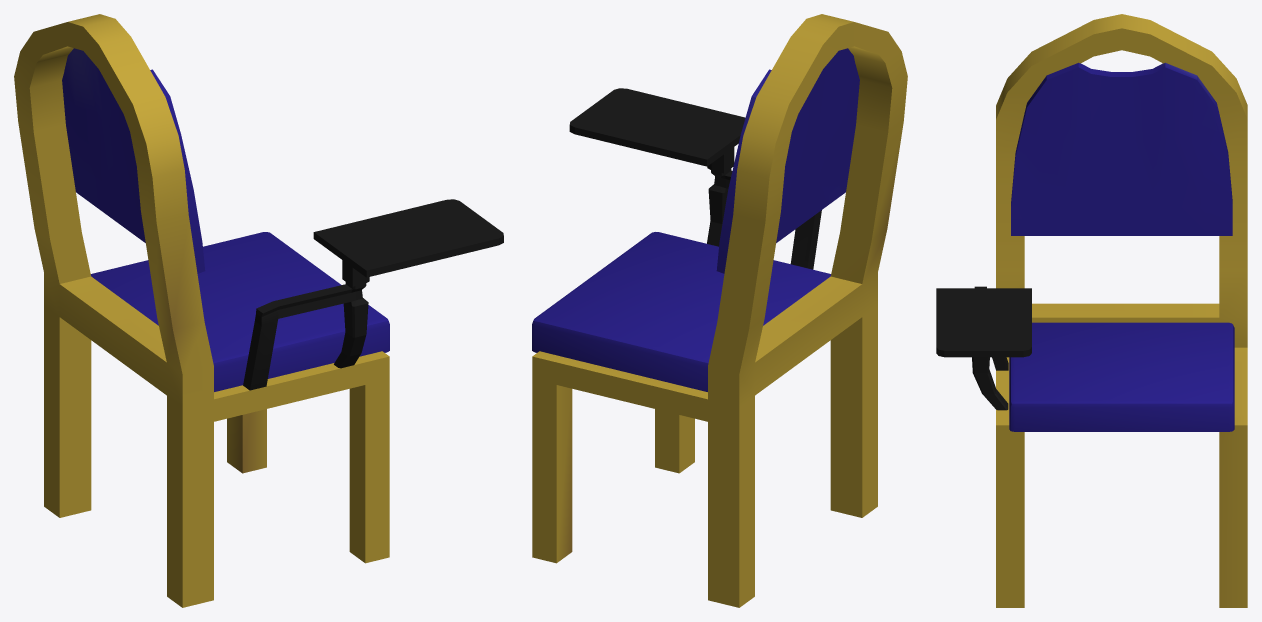
Rendered from SM_Chair_Hall_D.fbx.
The picture shows the model from 3 angles, left to right: view 1: azimuth 30°, elevation 25°; view 2: azimuth 150°, elevation 25°; view 3: azimuth 270°, elevation 25°; orthographic projection. The views are drawn at different scales.
Parts seen in each view (by area): view 1: Chair_Hall_D; view 2: Chair_Hall_D; view 3: Chair_Hall_D.
Boxes of the visible parts, x1=… form: Chair_Hall_D: x1=14, y1=14, x2=503, y2=607; Chair_Hall_D: x1=532, y1=14, x2=907, y2=607; Chair_Hall_D: x1=936, y1=14, x2=1247, y2=607.
Size of the model in its own units: 81.12 by 129 by 74.7.
